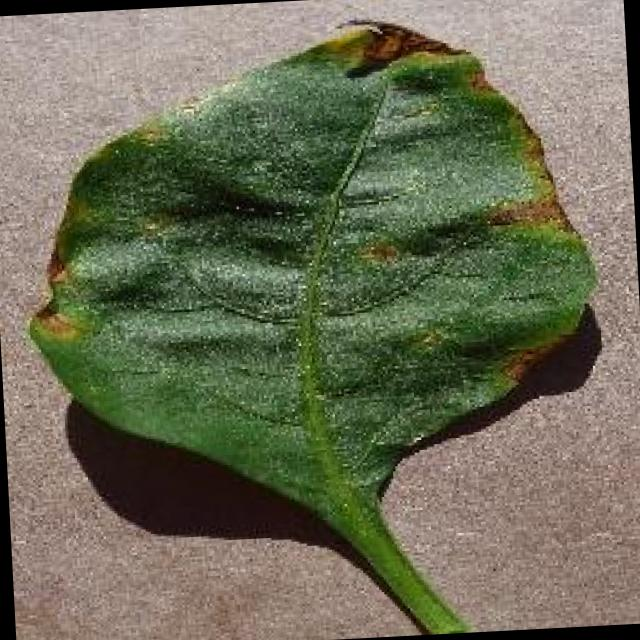Chilli_Bacterial_Spot: (10, 3, 612, 530), (322, 10, 458, 82), (484, 192, 571, 238), (28, 300, 84, 346), (353, 236, 400, 268), (41, 248, 70, 288)
